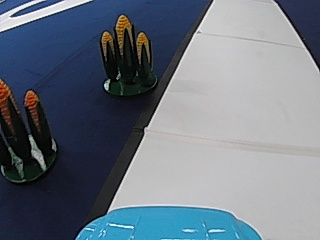corn: (0, 85, 59, 184), (96, 11, 160, 96)
